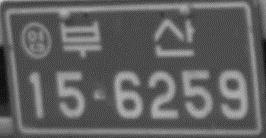-: (91, 86, 109, 102)
1: (26, 70, 48, 120)
2: (148, 69, 179, 120)
5: (180, 69, 215, 119), (55, 69, 88, 120)
6: (113, 69, 144, 120)
9: (217, 68, 250, 120)
부산_D: (59, 18, 196, 59)
영: (20, 20, 53, 60)
